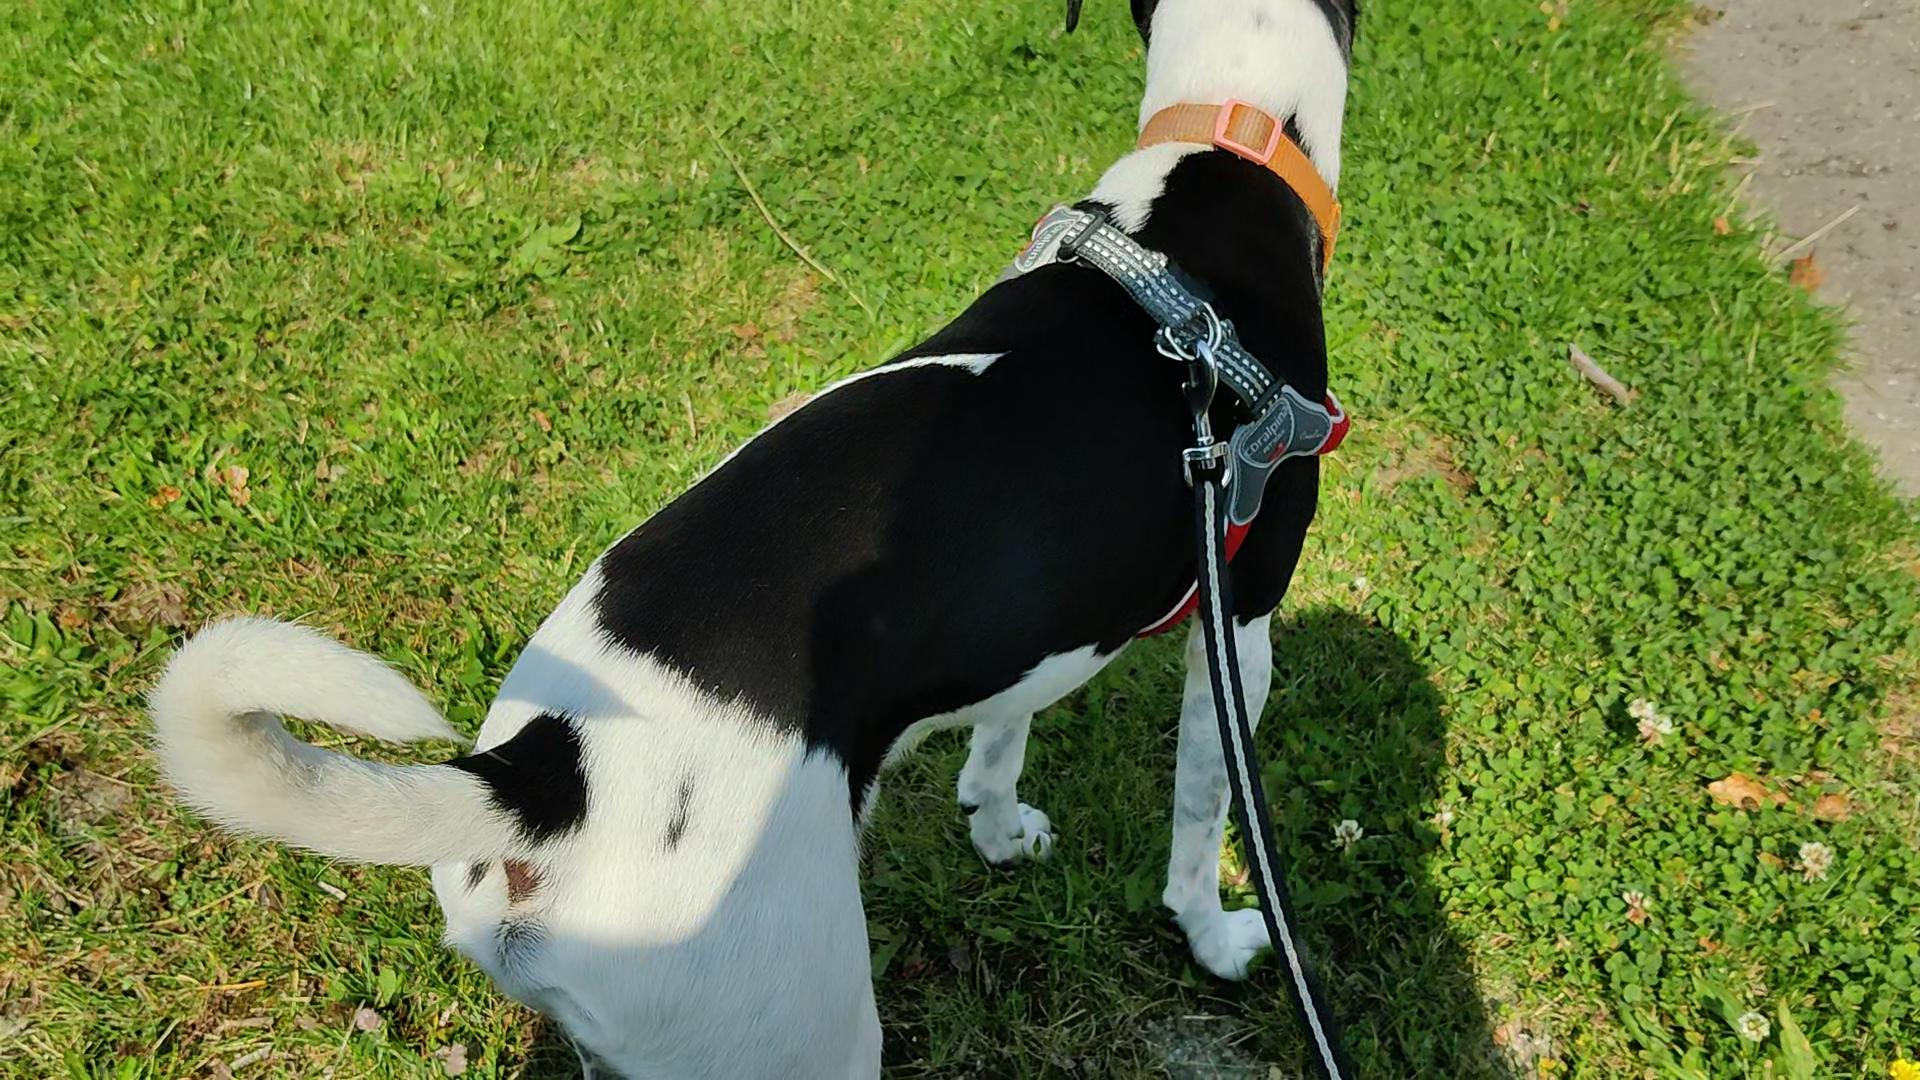Dog: (142, 0, 1367, 1079)
